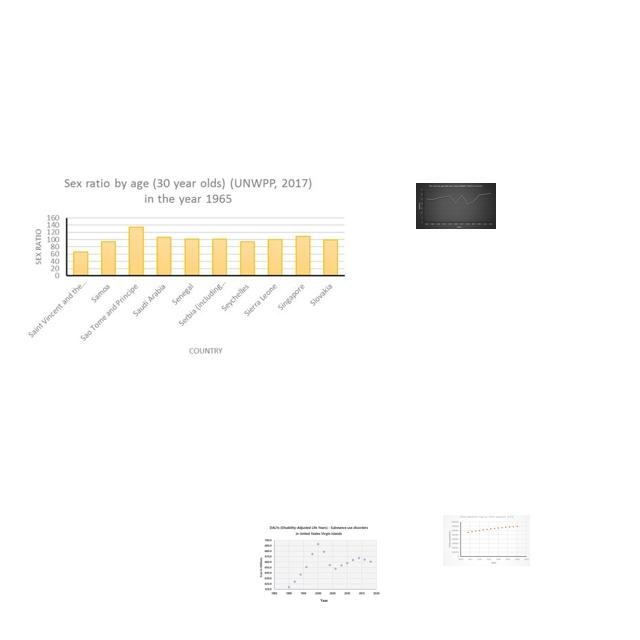Graph: (26, 170, 349, 358), (257, 523, 381, 604), (443, 515, 530, 566), (416, 183, 496, 229)
